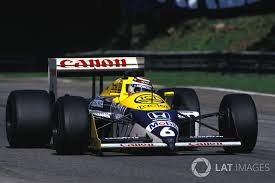FormulaOneCar: (4, 52, 261, 158)
